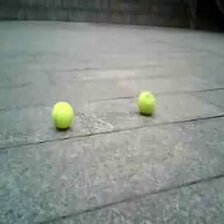tennis: (51, 101, 73, 130), (136, 91, 155, 114)
